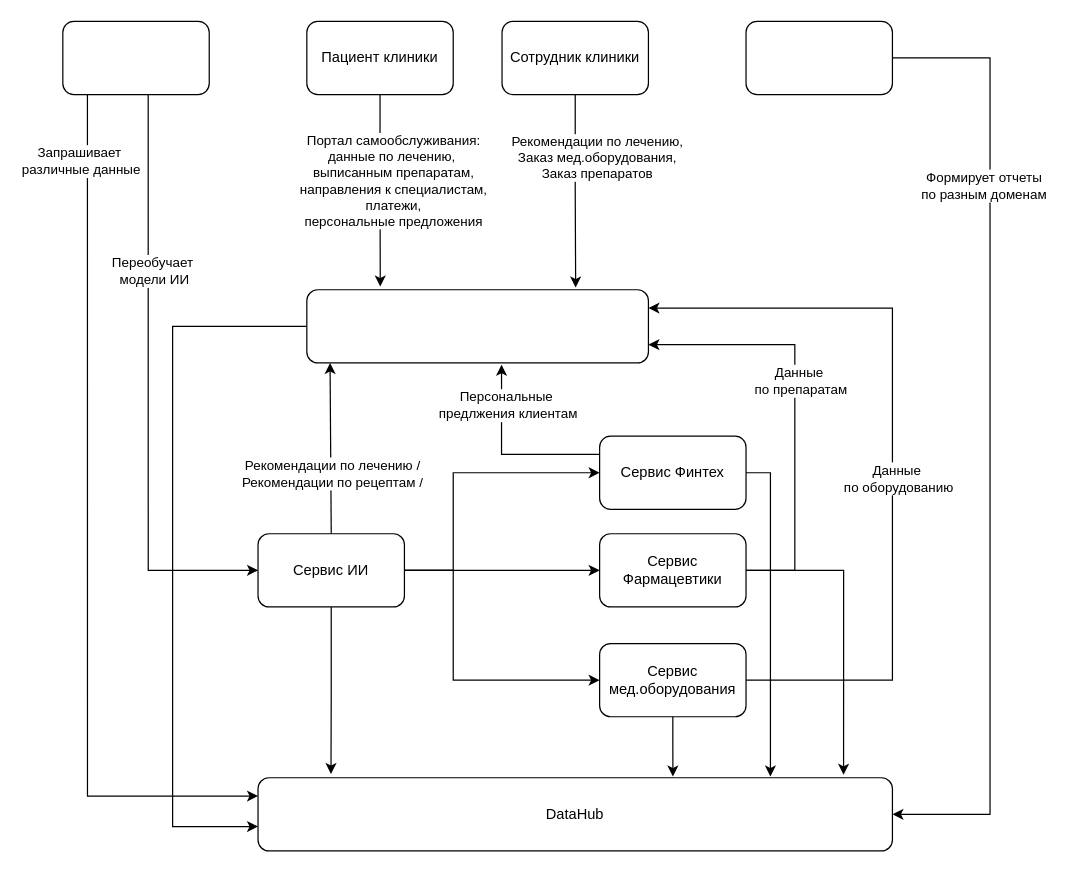
Image size: 1066x872. Some labels were removed from this diagram. The centre of each missing label's shape, as x and y in pixels:
ML специалист: point (135, 57)
Аналитик компании: point (818, 57)
Будущее 2.0 (Портал клиники): point (477, 326)
